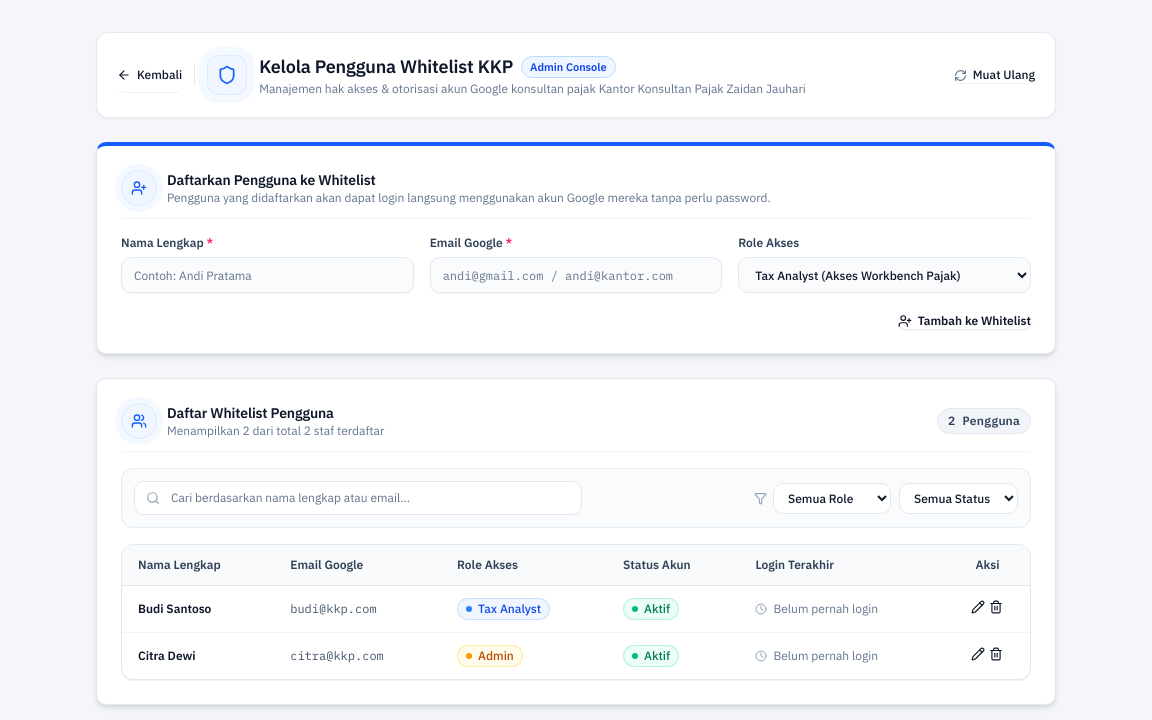
Test case: AdminDashboard Component › dapat melakukan filter pencarian pengguna whitelist
Check: the text "Budi Santoso" is shown, box [138,601,211,617]
Check: the text "Citra Dewi" is shown, box [138,648,196,664]
// Ketik pencarian "Budi"
In the field with placeholder "Cari berdasarkan nama lengkap atau email...": (358, 498) [134,481,582,515], type "Budi"
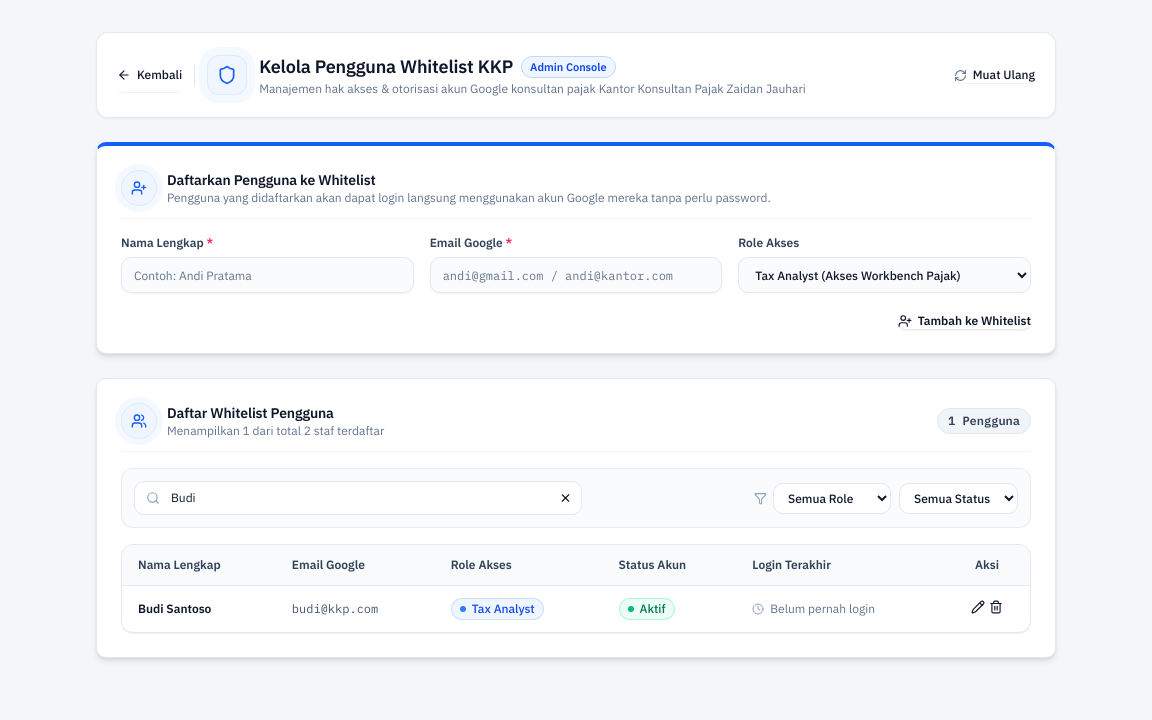
Check: the text "Budi Santoso" is shown, box [138,601,211,617]
Check: the text "Citra Dewi" is gone
